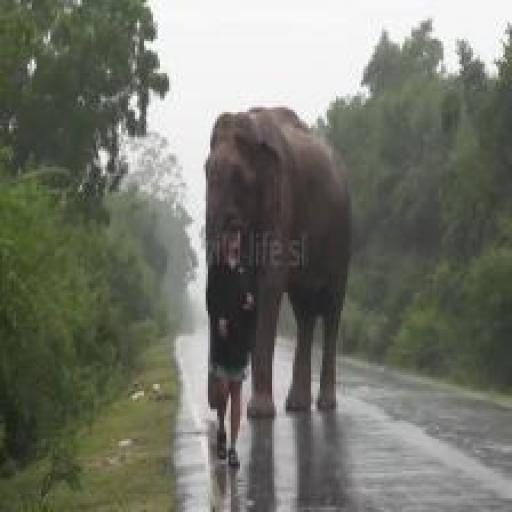Elephant: (183, 75, 366, 512)
